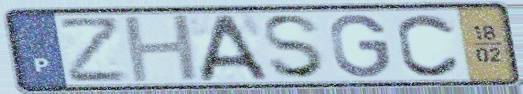A: (196, 12, 273, 84)
C: (394, 11, 465, 79)
G: (327, 12, 394, 80)
H: (119, 12, 204, 86)
S: (259, 13, 329, 81)
Z: (56, 14, 131, 85)
